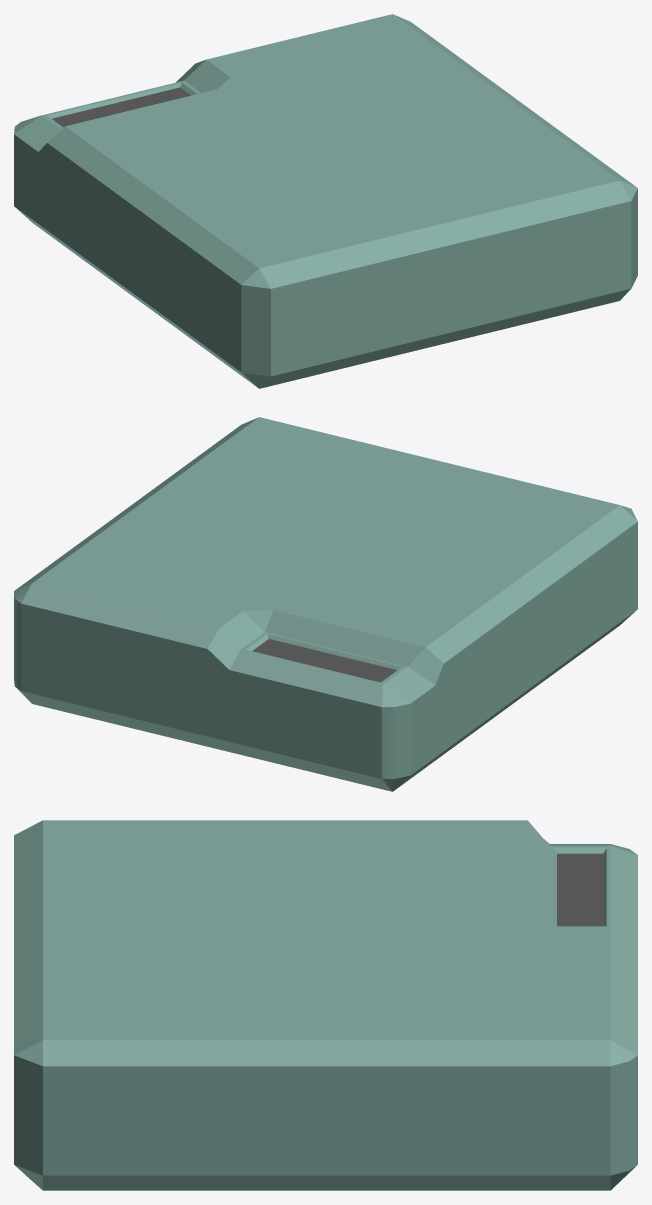
Rendered from turntable.fbx.
3 renders of one model, top to bottom at view 1: azimuth 30°, elevation 25°; view 2: azimuth 150°, elevation 25°; view 3: azimuth 270°, elevation 25°, orthographic. The views are drawn at different scales.
Parts seen in each view (by area): view 1: turntable; view 2: turntable; view 3: turntable.
Boxes of the visible parts, bbox=[...] form: turntable: bbox=[14, 14, 637, 388]; turntable: bbox=[14, 417, 637, 791]; turntable: bbox=[14, 820, 637, 1190].
Bounding box in the file's own units: 1.4 × 0.4061 × 1.53.
